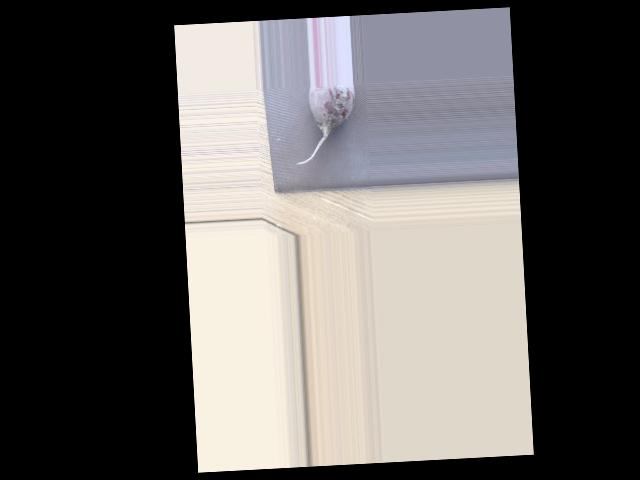beet: (293, 84, 358, 165)
